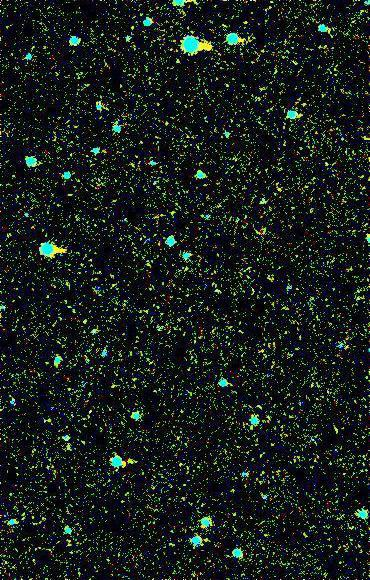star: (118, 447, 148, 477)
